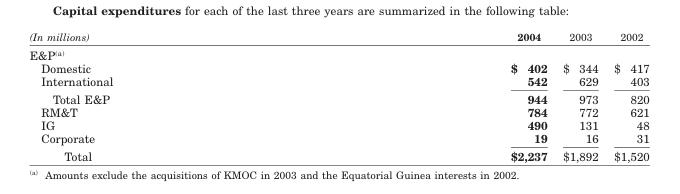table: (28, 29, 648, 162)
table column: (28, 29, 311, 162), (311, 29, 554, 162), (554, 29, 605, 162), (605, 29, 648, 162)
table column header: (28, 29, 648, 44)
table projected row header: (28, 44, 648, 61)
table row: (28, 44, 648, 61), (28, 89, 648, 105), (28, 130, 648, 146), (28, 146, 648, 162), (28, 29, 648, 44), (28, 74, 648, 89), (28, 61, 648, 74), (28, 117, 648, 130), (28, 105, 648, 117)
